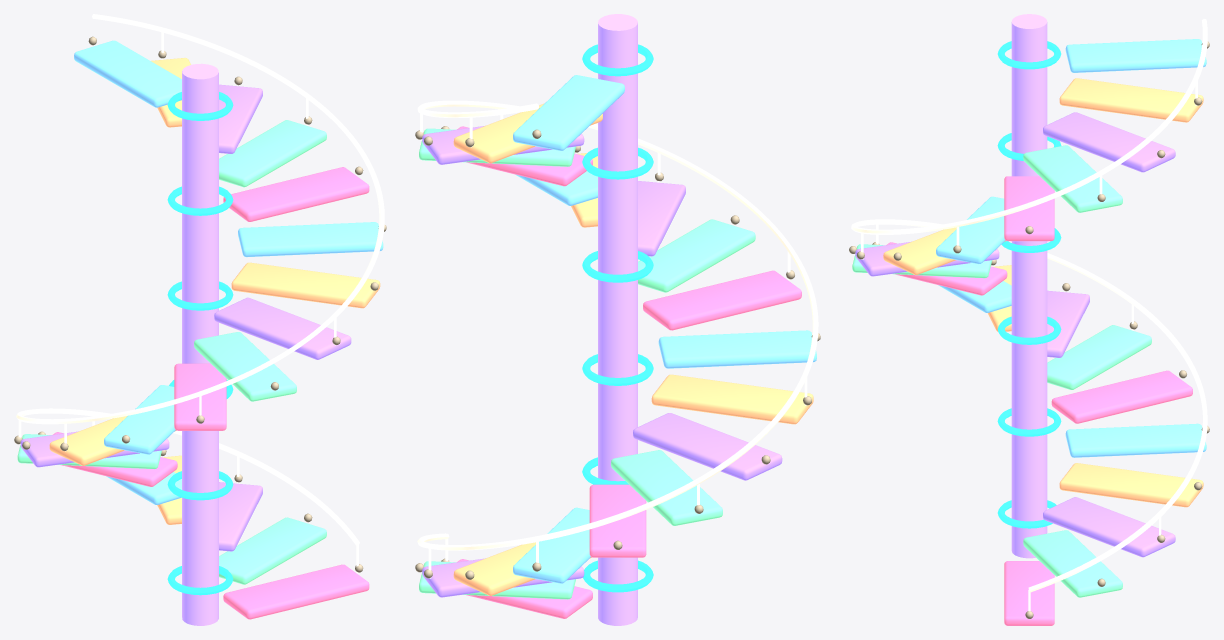
Rendered from Staircase.fbx.
3 views of the same model, side by side, from view 1: azimuth 30°, elevation 25°; view 2: azimuth 150°, elevation 25°; view 3: azimuth 270°, elevation 25° (orthographic). The views are drawn at different scales.
Parts seen in each view (by area): view 1: Staircase; view 2: Staircase; view 3: Staircase.
Part boxes in pixels (<box>): Staircase: <box>14,14,386,625</box>; Staircase: <box>415,14,820,625</box>; Staircase: <box>849,14,1209,625</box>.
Bounding box in the file's own units: 12.07 × 19.68 × 12.11.
